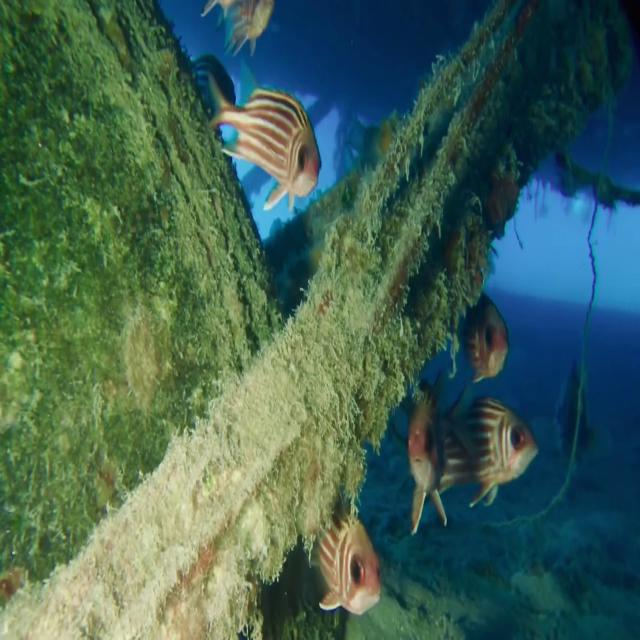Asker Baligi: (190, 52, 322, 214), (409, 398, 544, 508)
